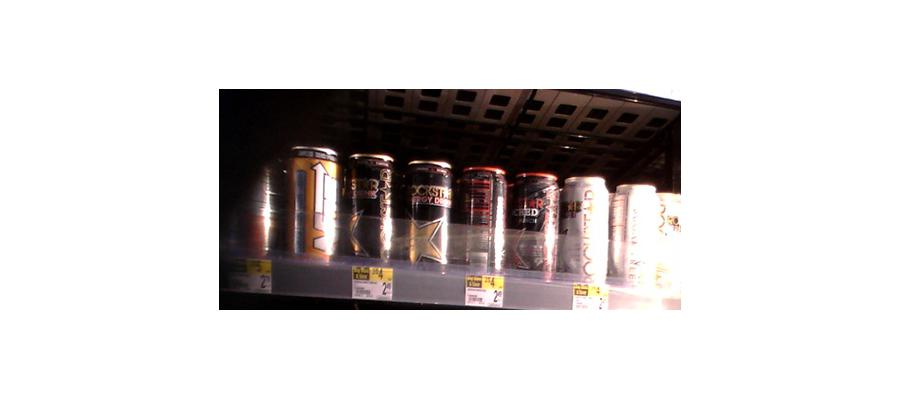bottle: (615, 180, 672, 301), (283, 144, 339, 261), (343, 152, 395, 264), (403, 155, 450, 273), (510, 173, 559, 280), (457, 167, 505, 275), (562, 178, 609, 288)
